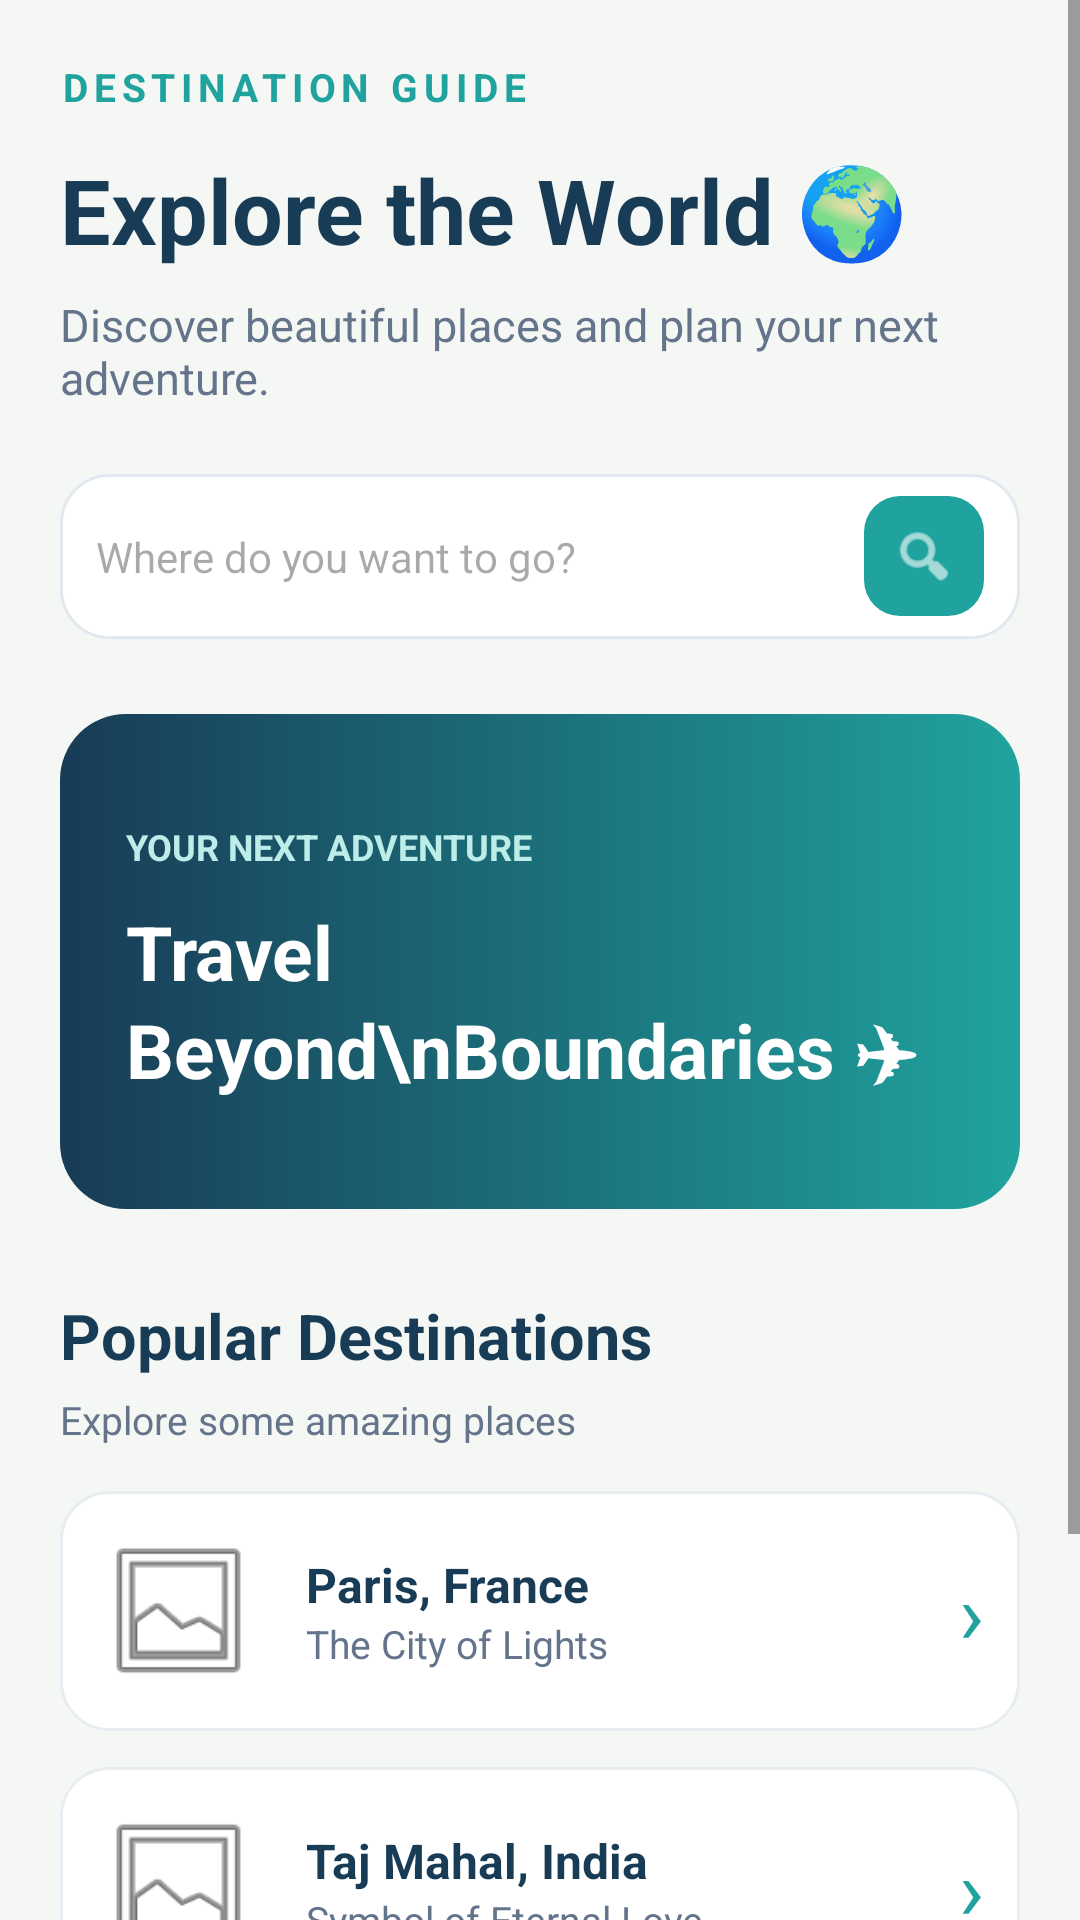

Named icons in this screenshot (1080px x 1920px) and their bounding boxes, (x1, y1, x2, y2):
Search: (864, 496, 984, 616)
